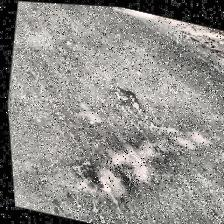pothole: (108, 82, 142, 110)
